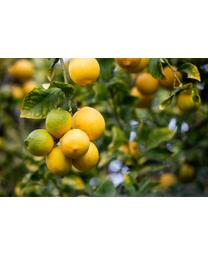lemon: (72, 106, 106, 141), (60, 129, 92, 160), (45, 107, 74, 140), (69, 58, 100, 85), (47, 145, 73, 177), (26, 129, 54, 157), (76, 145, 98, 171)
